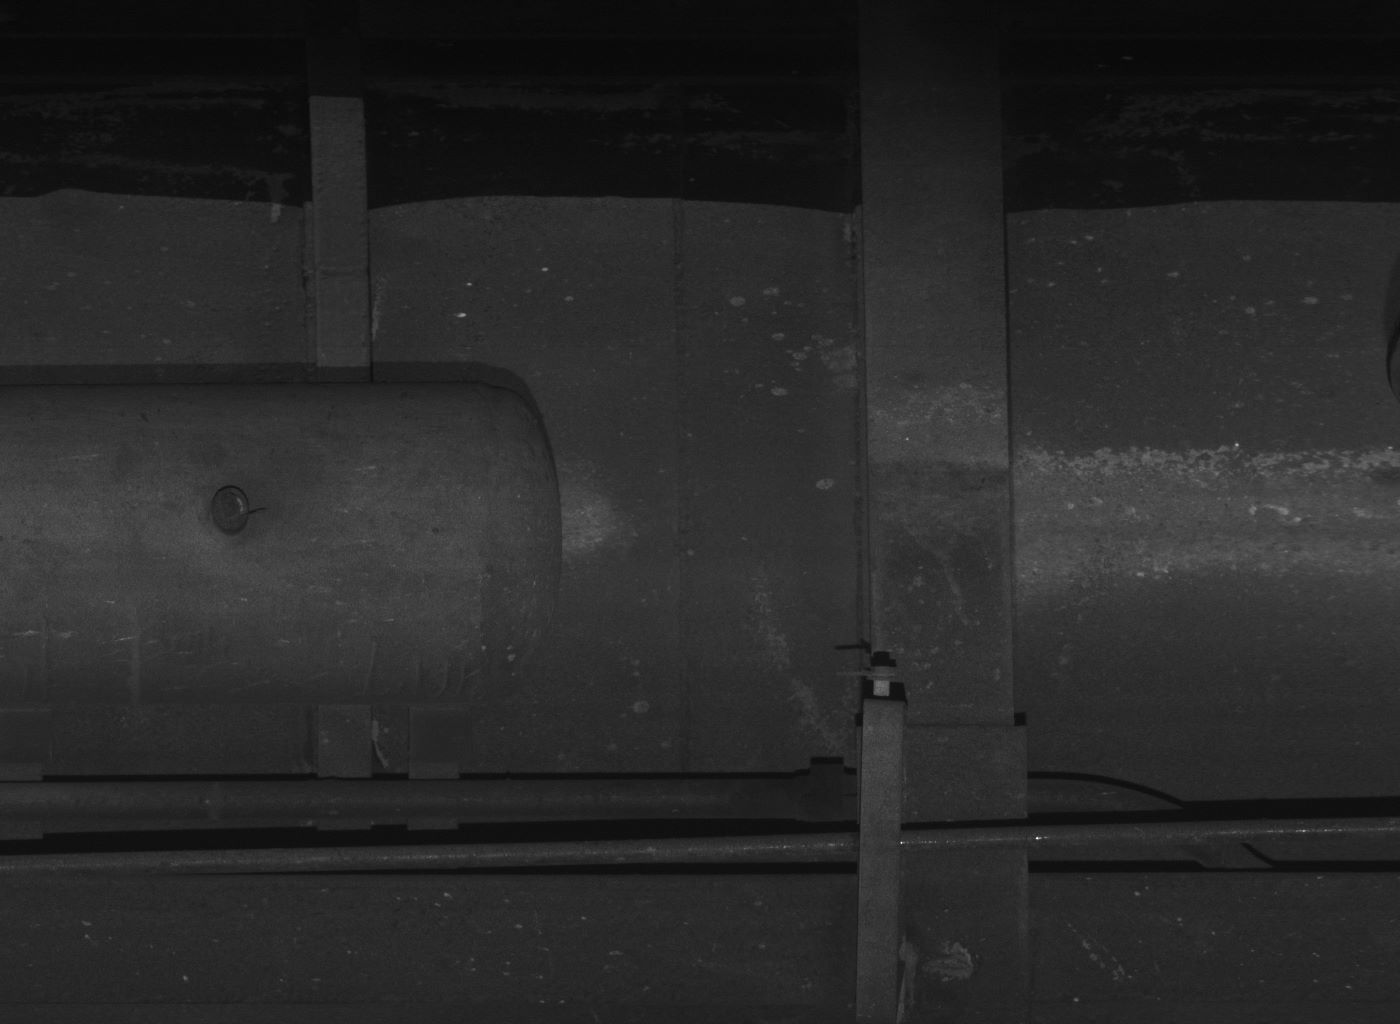normal: (836, 665, 907, 1024)
